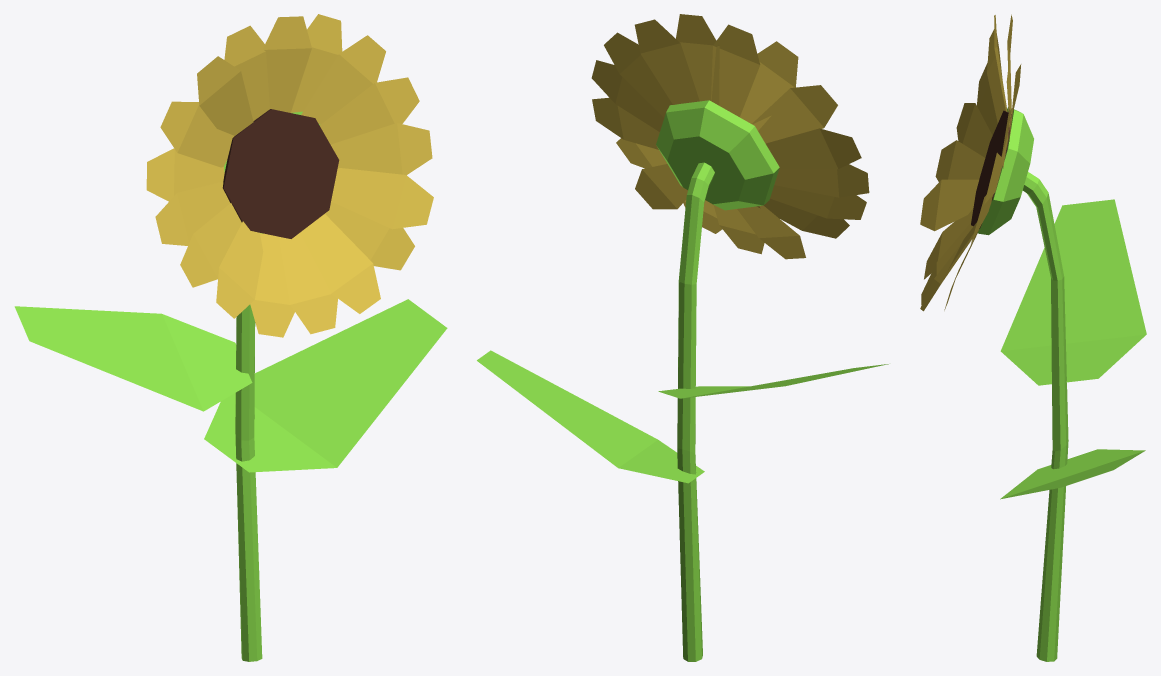
File: sunflower.glb
The picture shows the model from 3 angles, left to right: view 1: azimuth 30°, elevation 25°; view 2: azimuth 150°, elevation 25°; view 3: azimuth 270°, elevation 25°; orthographic projection. The views are drawn at different scales.
Visible parts, largest first — view 1: Plane.002, Cylinder.006, Cylinder.005, Cylinder.003, Cylinder.004; view 2: Plane.002, Cylinder.004, Cylinder.006, Cylinder.005; view 3: Cylinder.005, Cylinder.004, Plane.002, Cylinder.006, Cylinder.003.
Part boxes in pixels (x1,y1,x2,y2): Plane.002: (146, 14, 433, 337); Cylinder.006: (204, 299, 447, 472); Cylinder.005: (14, 306, 252, 411); Cylinder.003: (222, 109, 339, 238); Cylinder.004: (224, 111, 320, 661); Plane.002: (591, 14, 869, 259); Cylinder.004: (656, 100, 779, 661); Cylinder.006: (477, 350, 704, 483); Cylinder.005: (658, 364, 888, 398); Cylinder.005: (1000, 199, 1146, 385); Cylinder.004: (978, 107, 1068, 661); Plane.002: (920, 14, 1021, 311); Cylinder.006: (1000, 449, 1145, 499); Cylinder.003: (971, 110, 1011, 228).
Bounding box in the file's own units: 1.11 × 1.67 × 0.5427.
